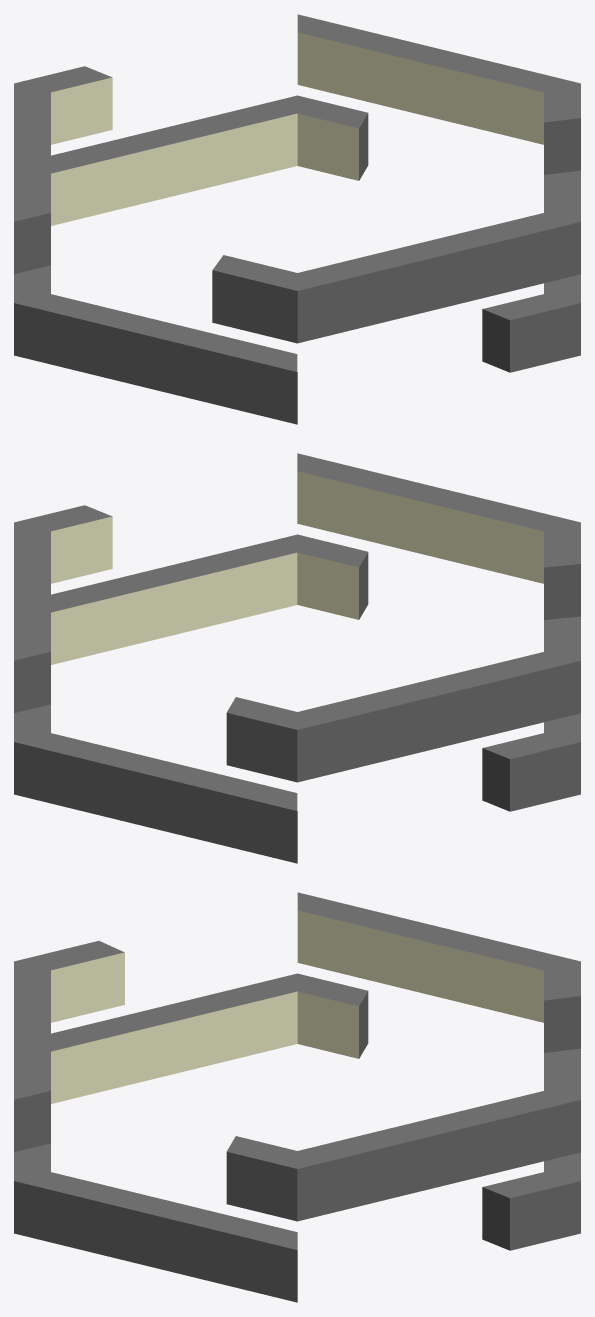
Rendered from BigHexLight1.fbx.
3 views of the same model, one above another, from view 1: azimuth 30°, elevation 25°; view 2: azimuth 150°, elevation 25°; view 3: azimuth 270°, elevation 25° (orthographic).
Visible parts, largest first — view 1: polySurface6; view 2: polySurface6; view 3: polySurface6.
Boxes of the visible parts, <box> form: polySurface6: <box>14,14,580,424</box>; polySurface6: <box>14,453,580,863</box>; polySurface6: <box>14,892,580,1302</box>.
Size of the model in its own units: 21.12 by 4.76 by 18.29.
